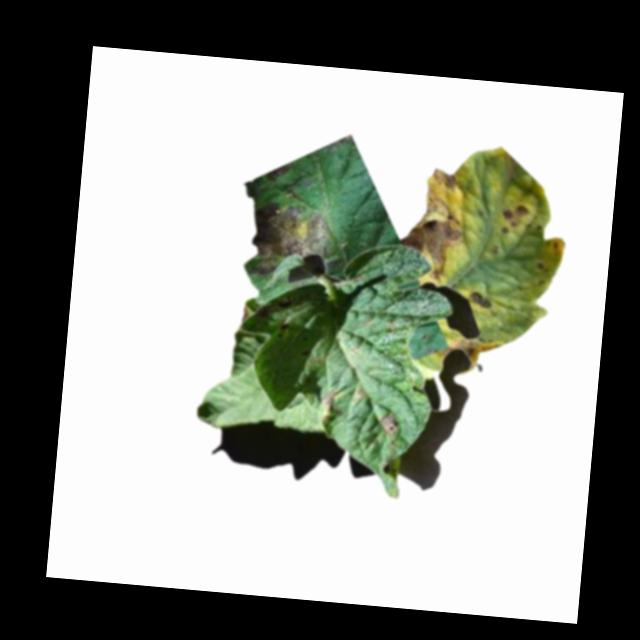Early_blight: (397, 165, 470, 281), (243, 202, 341, 279), (433, 337, 499, 366), (497, 202, 531, 237), (379, 410, 401, 440), (317, 390, 338, 418), (467, 290, 494, 310), (238, 307, 248, 325)
